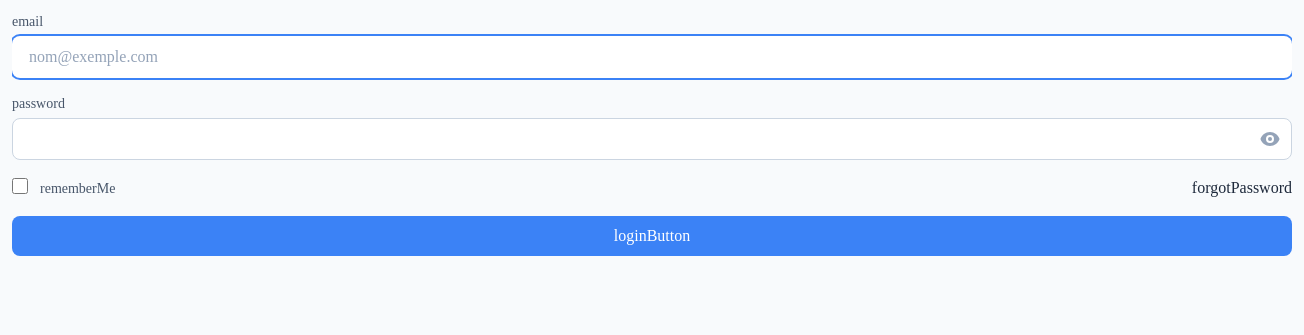
LoginForm › shows error message on login failure
Step 1. Type "test@example.com" into the field labelled "email" → point(652, 57), box [12,36,1292,78]
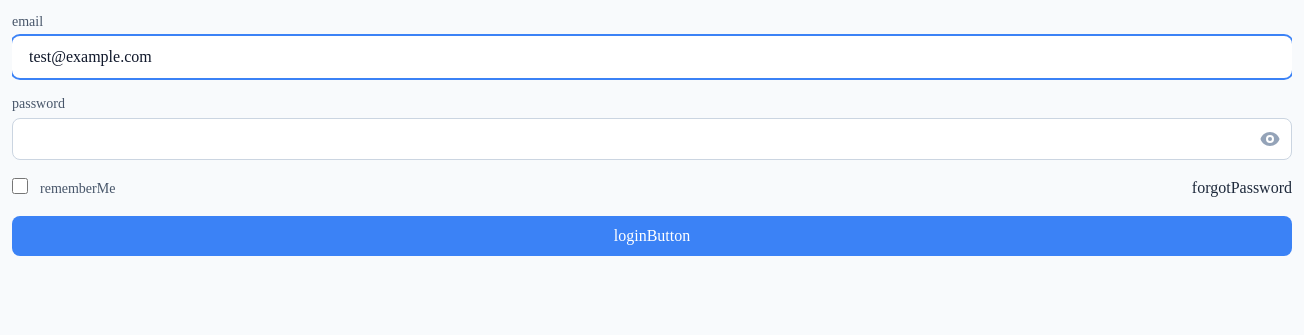
Step 2. Type "wrongpassword" into the password field labelled "password" → point(652, 139), box [12,118,1292,160]
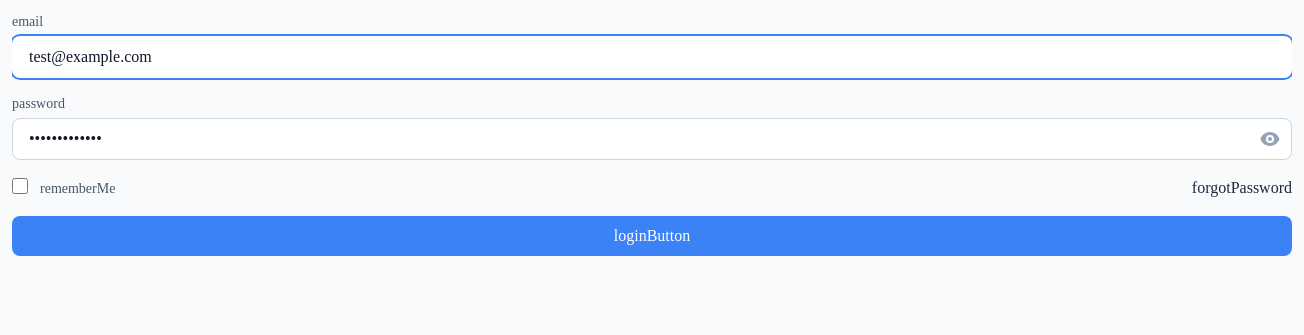
Step 3. Click the button "loginButton" → point(652, 236), box [12,216,1292,256]
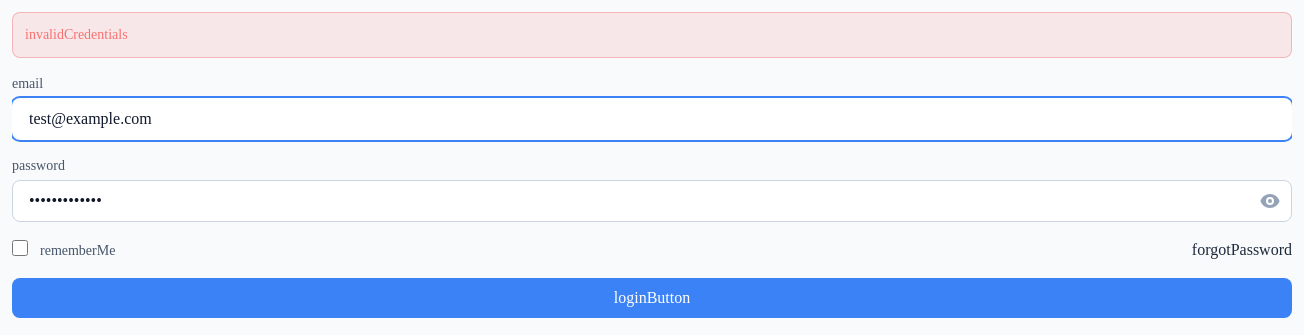
Now the text "invalidCredentials" is shown, box [12,12,1292,58]
